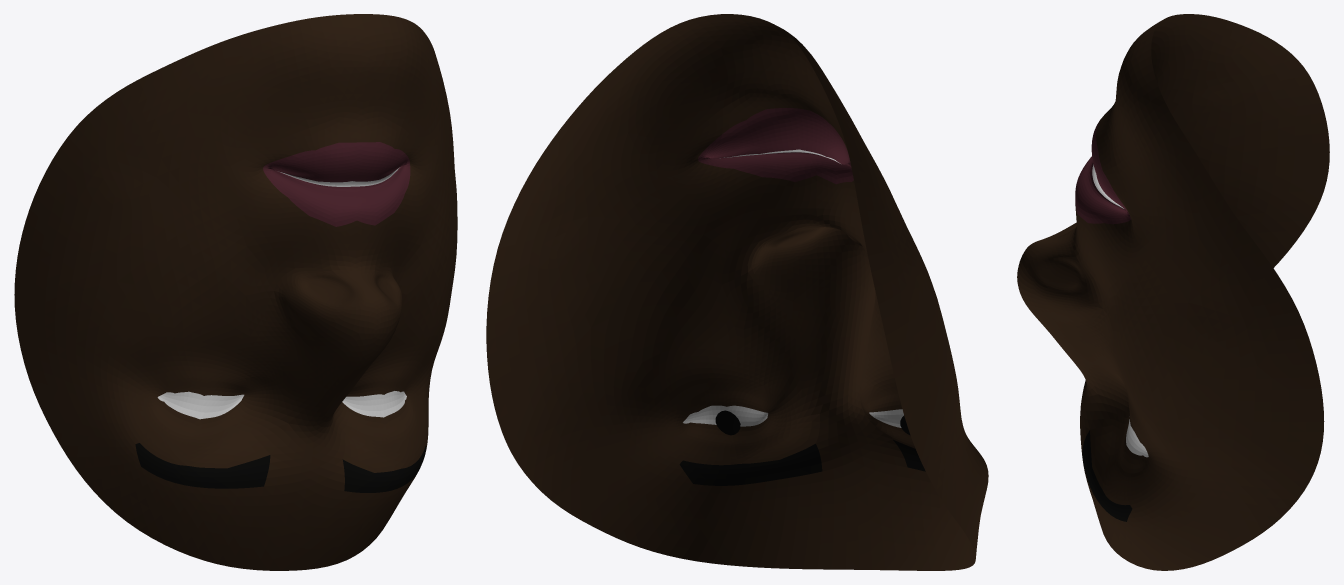
Rendered from anger.obj.
3 renders of one model, left to right at view 1: azimuth 30°, elevation 25°; view 2: azimuth 150°, elevation 25°; view 3: azimuth 270°, elevation 25°, orthographic. The views are drawn at different scales.
Parts seen in each view (by area): view 1: face_mesh_subdivided; view 2: face_mesh_subdivided; view 3: face_mesh_subdivided.
Boxes of the visible parts, x1,y1,x2,y2 form: face_mesh_subdivided: (14, 14, 457, 570); face_mesh_subdivided: (486, 14, 988, 570); face_mesh_subdivided: (1017, 14, 1329, 570).
Bounding box in the file's own units: 0.6154 × 0.7586 × 0.4143.
